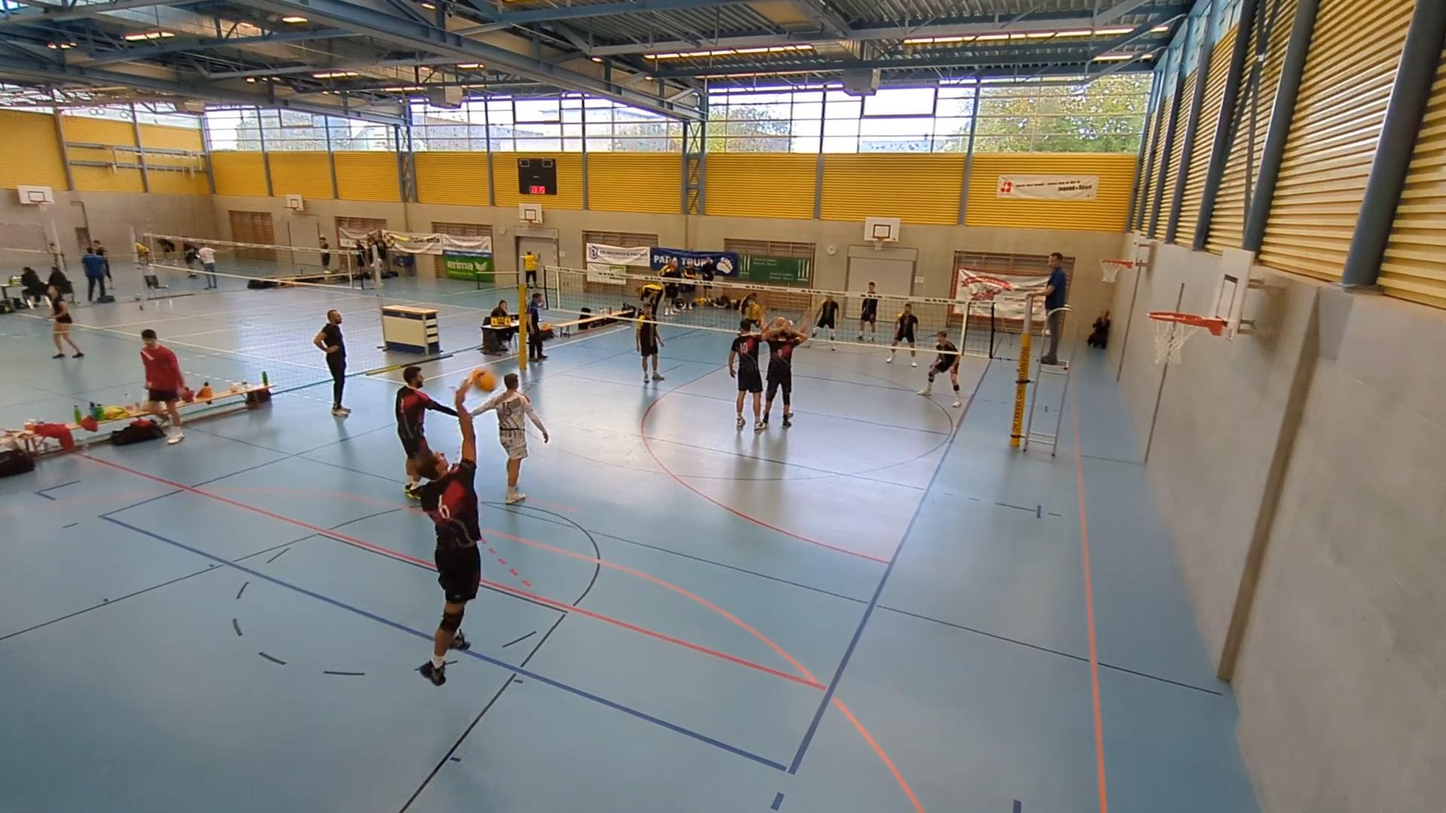battuta: (411, 443, 489, 693)
